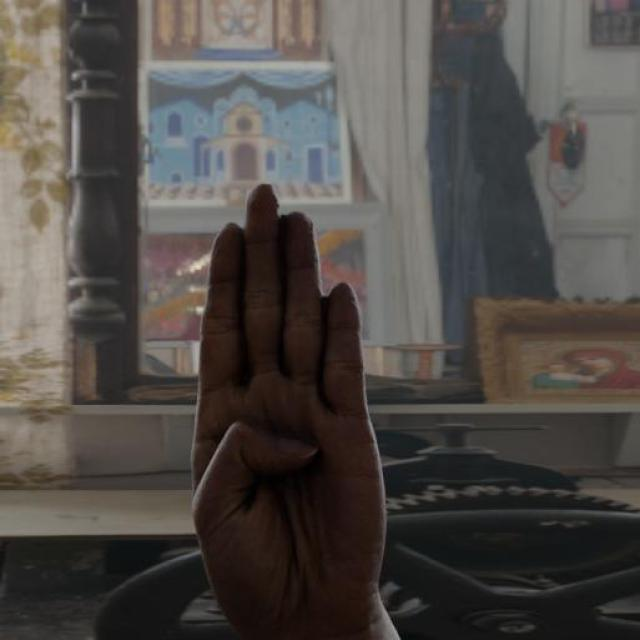B: (184, 173, 399, 618)
